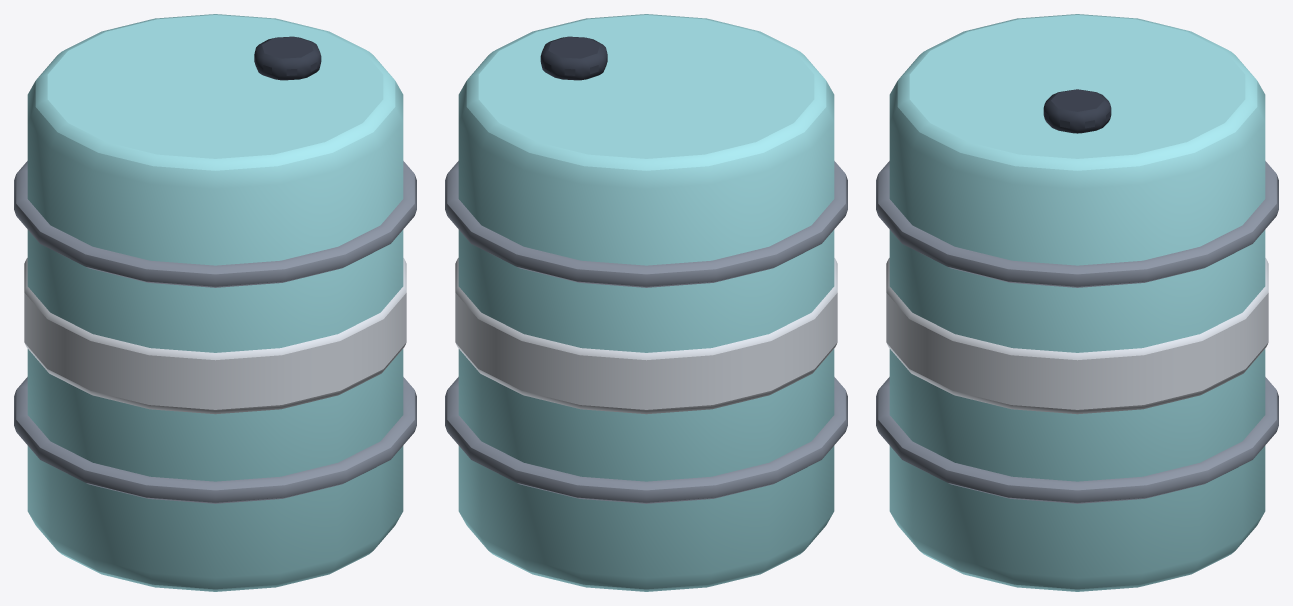
File: ware_kondensat.fbx
The picture shows the model from 3 angles, left to right: view 1: azimuth 30°, elevation 25°; view 2: azimuth 150°, elevation 25°; view 3: azimuth 270°, elevation 25°; orthographic projection.
Parts seen in each view (by area): view 1: ware_kondensat_Koerper; view 2: ware_kondensat_Koerper; view 3: ware_kondensat_Koerper.
Part boxes in pixels (<box>): ware_kondensat_Koerper: <box>14,14,416,591</box>; ware_kondensat_Koerper: <box>445,14,847,591</box>; ware_kondensat_Koerper: <box>876,14,1278,591</box>.
Size of the model in its own units: 0.3432 by 0.42 by 0.338.
